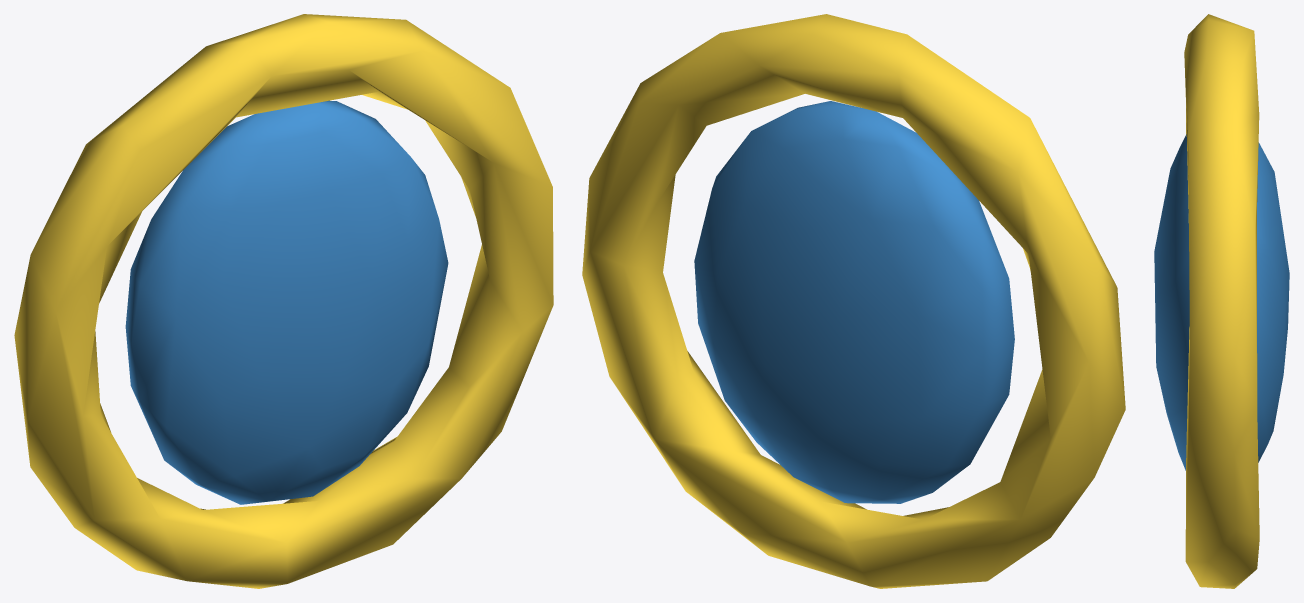
The model's file is Pickup_shield_LOD2.glb.
The picture shows the model from 3 angles, left to right: view 1: azimuth 30°, elevation 25°; view 2: azimuth 150°, elevation 25°; view 3: azimuth 270°, elevation 25°; orthographic projection. The views are drawn at different scales.
Parts seen in each view (by area): view 1: Pickup ring.001, Shield; view 2: Pickup ring.001, Shield; view 3: Pickup ring.001, Shield.
Boxes of the visible parts, x1=… form: Pickup ring.001: x1=14, y1=14, x2=553, y2=588; Shield: x1=125, y1=100, x2=448, y2=504; Pickup ring.001: x1=582, y1=14, x2=1125, y2=588; Shield: x1=694, y1=101, x2=1014, y2=503; Pickup ring.001: x1=1184, y1=14, x2=1259, y2=588; Shield: x1=1154, y1=134, x2=1289, y2=470.
Size of the model in its own units: 0.845 by 0.8465 by 0.1985.
